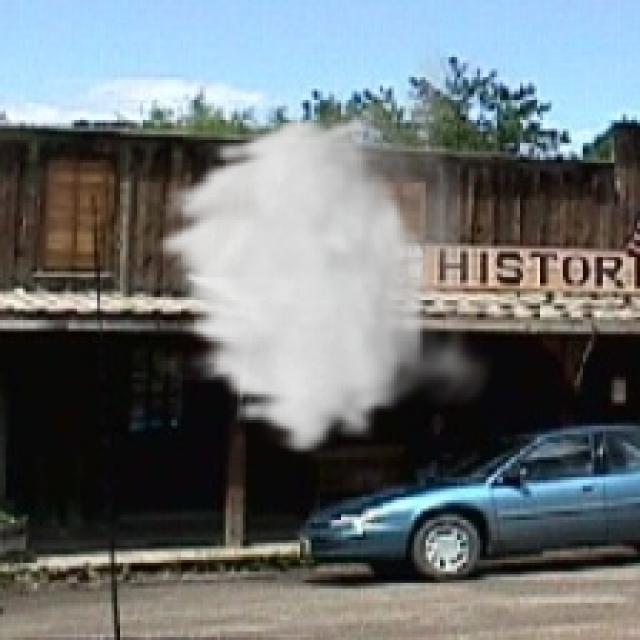smoke: (149, 43, 497, 457)
